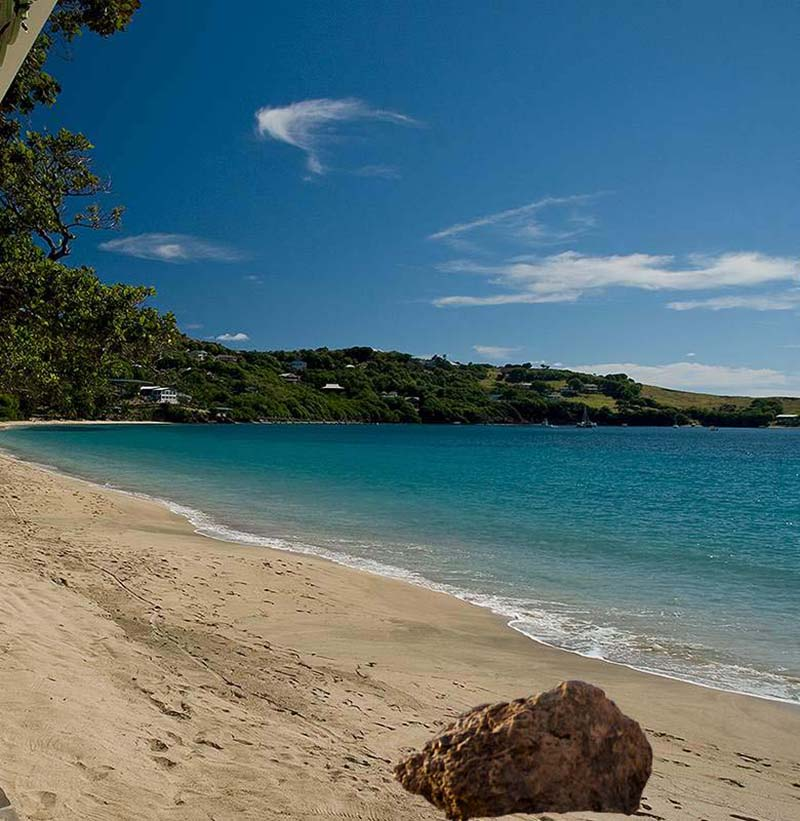Rocks: (384, 675, 667, 821)
